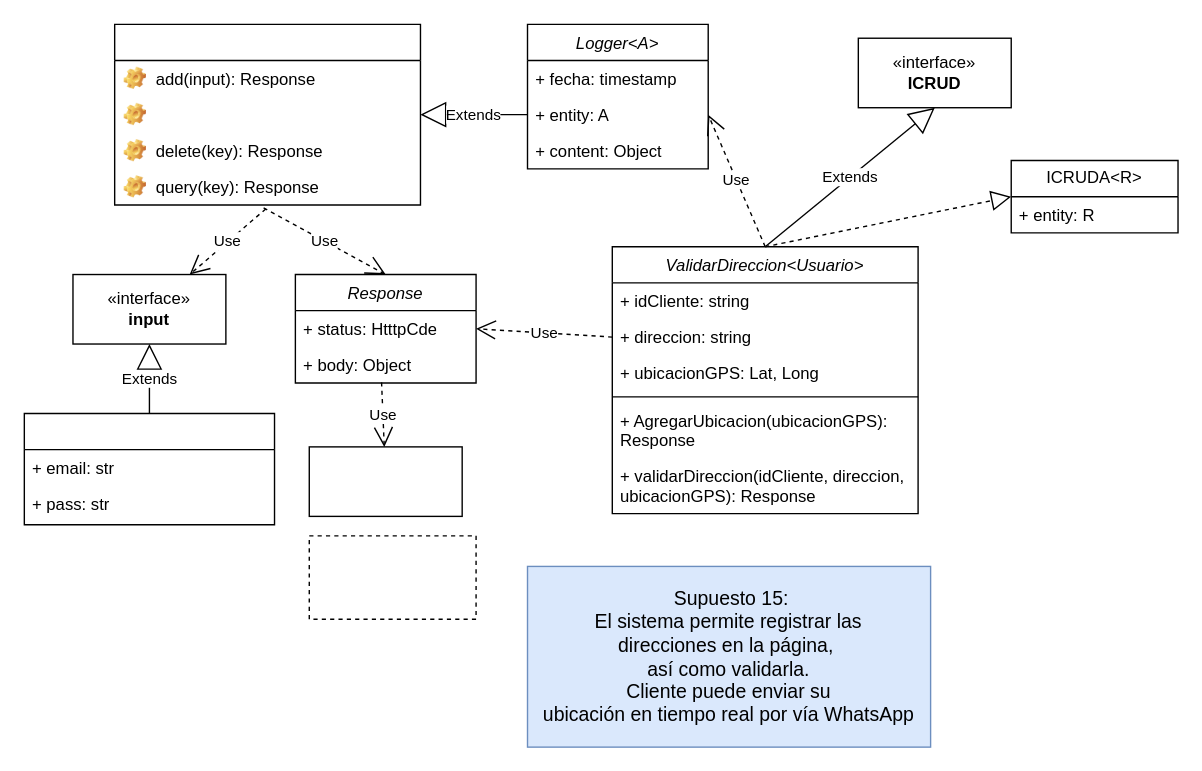
This 1202x771 diagram has some shape labels left out. Here are the shapes that lost their labels. From the top down, the box of each, then its label:
(113, 23, 420, 205): ICRUD<E>
(114, 96, 420, 132): update(key, input): Response
(23, 412, 275, 525): Usuarioinput
(308, 445, 462, 516): HttpCode
(308, 534, 476, 619): 200: OK 400: Not Allowed 404: Not Found
